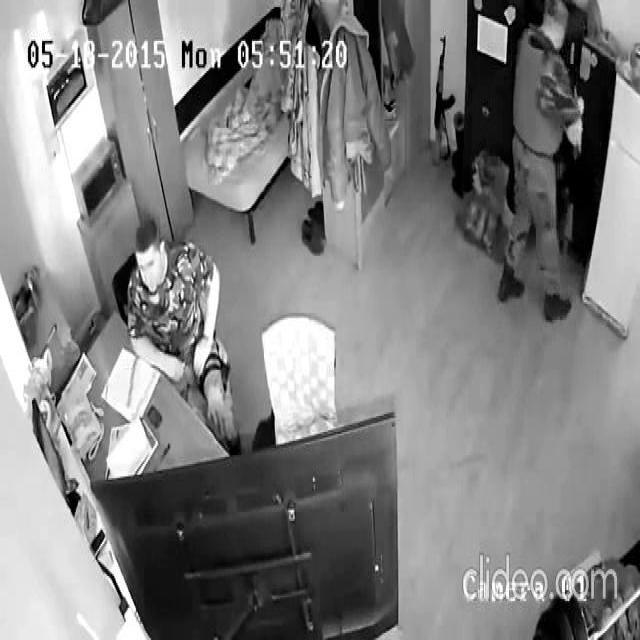gun: (497, 0, 585, 324), (126, 212, 242, 456), (430, 34, 456, 165)
